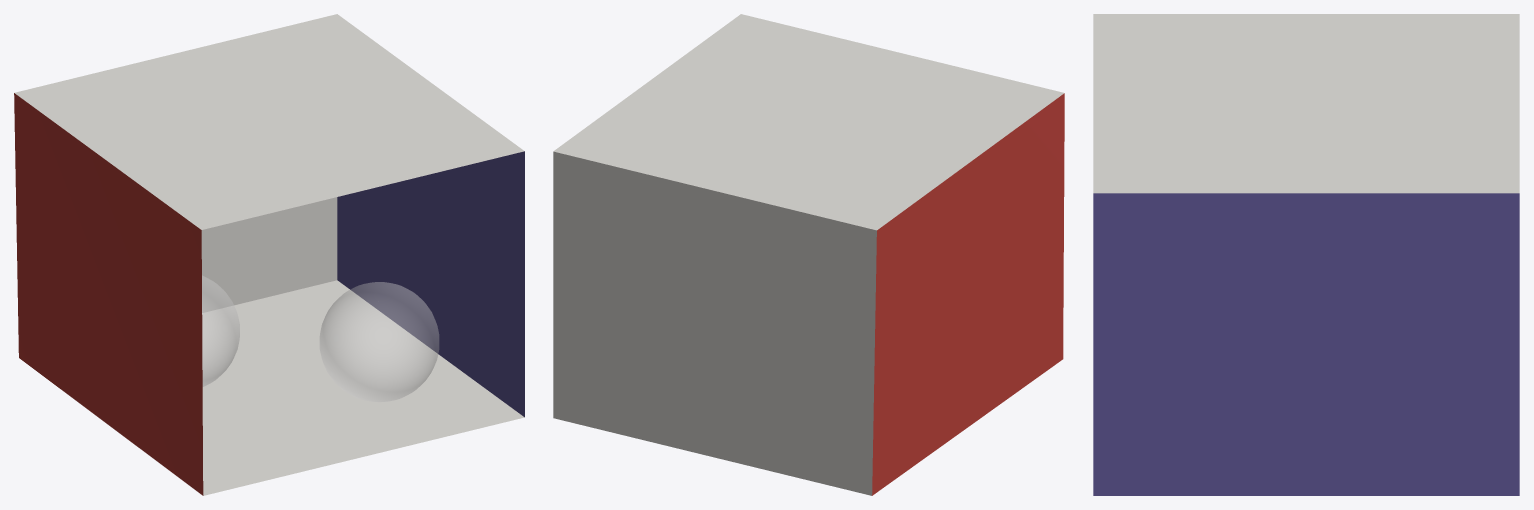
The model's file is cornell_box_sphere.glb.
3 renders of one model, left to right at view 1: azimuth 30°, elevation 25°; view 2: azimuth 150°, elevation 25°; view 3: azimuth 270°, elevation 25°, orthographic. The views are drawn at different scales.
Visible parts, largest first — view 1: CornellBox-Sphere; view 2: CornellBox-Sphere; view 3: CornellBox-Sphere.
Boxes of the visible parts, <box> form: CornellBox-Sphere: <box>14,14,524,495</box>; CornellBox-Sphere: <box>553,14,1064,495</box>; CornellBox-Sphere: <box>1093,14,1519,495</box>.
Size of the model in its own units: 2.02 by 1.59 by 2.03.
